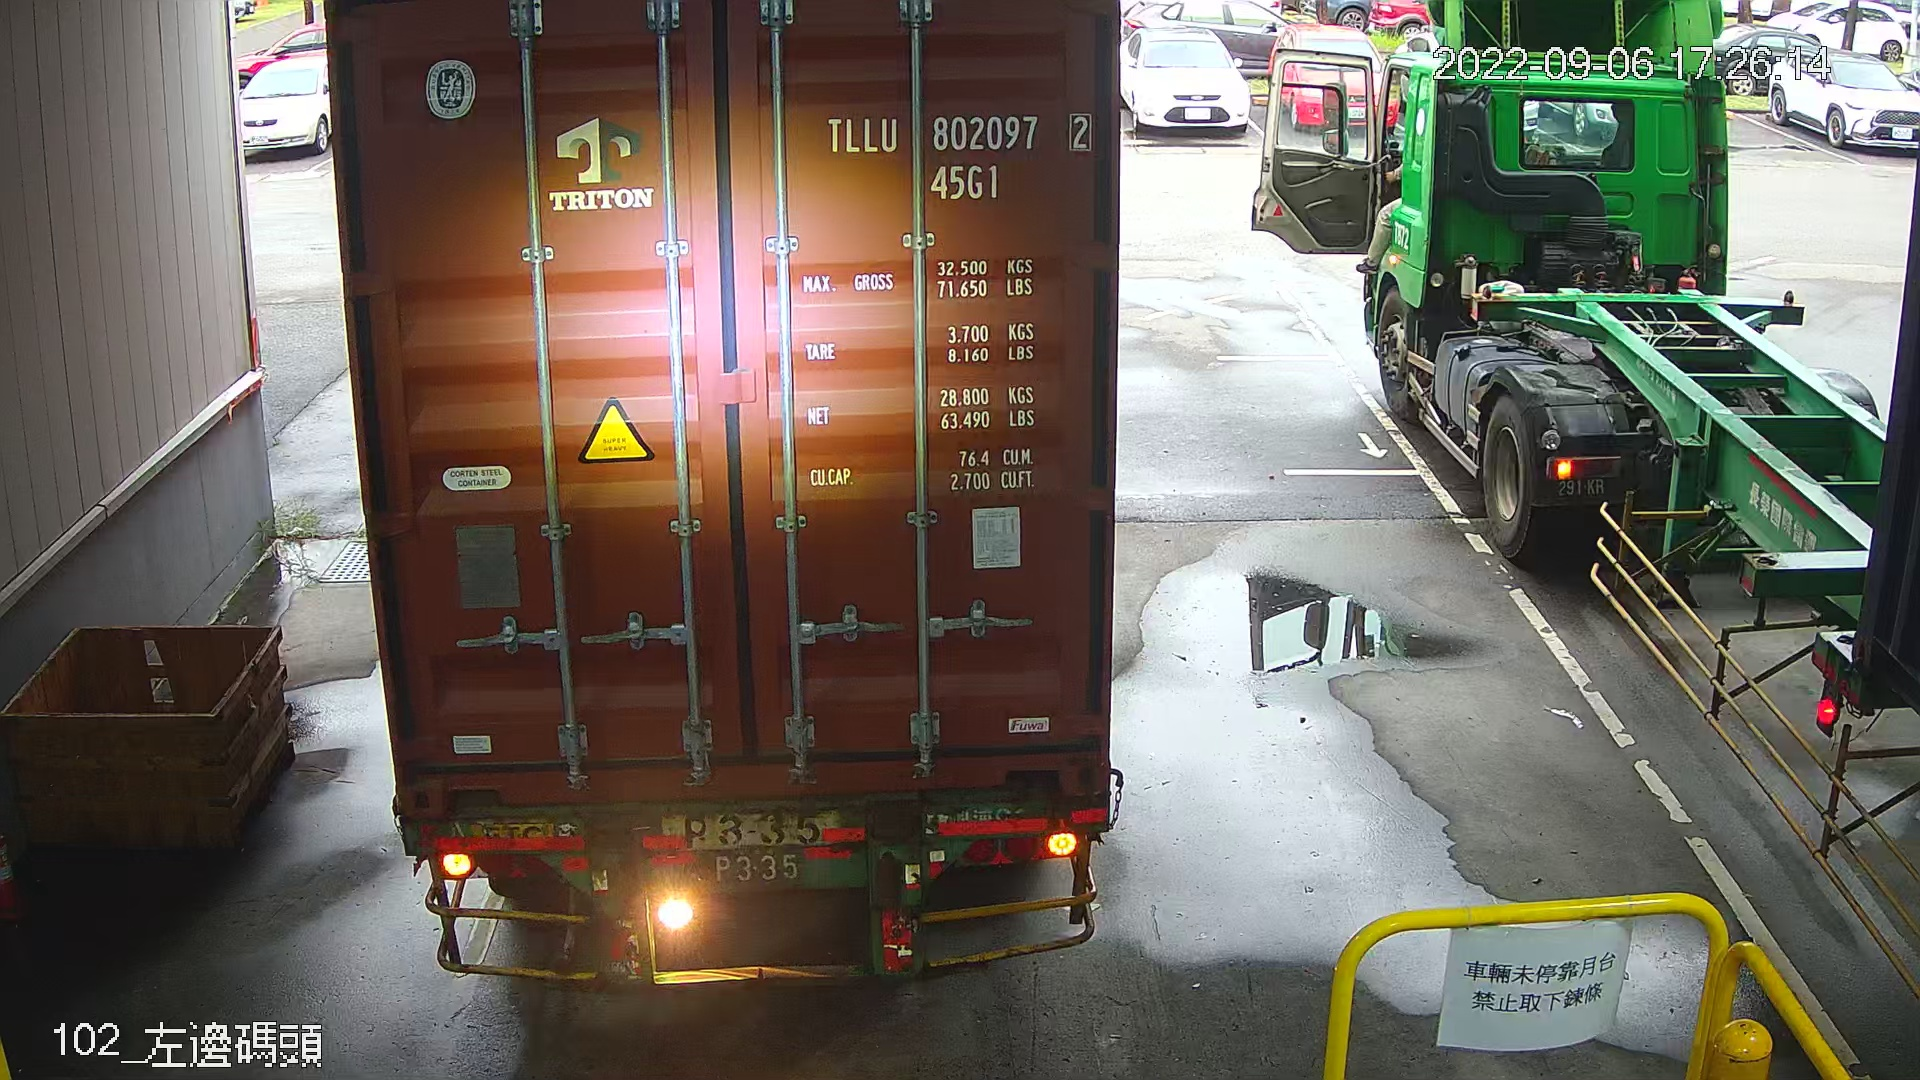container: (814, 102, 1101, 210)
